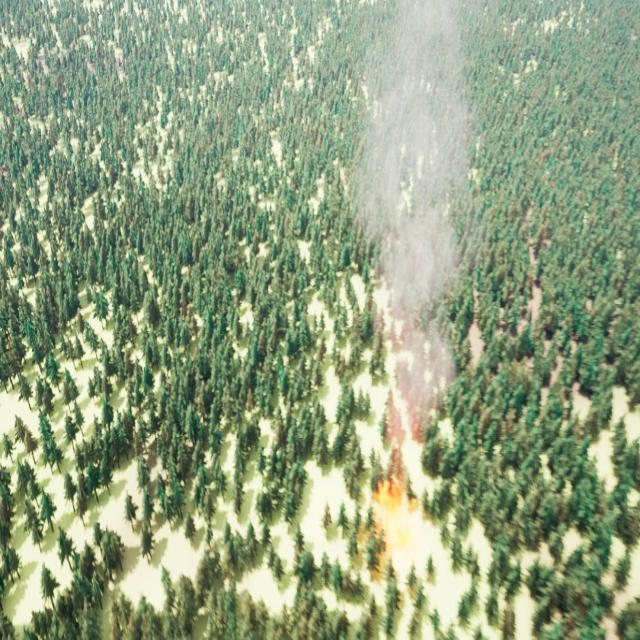fire: (359, 468, 418, 557)
smoke: (349, 0, 476, 458)
